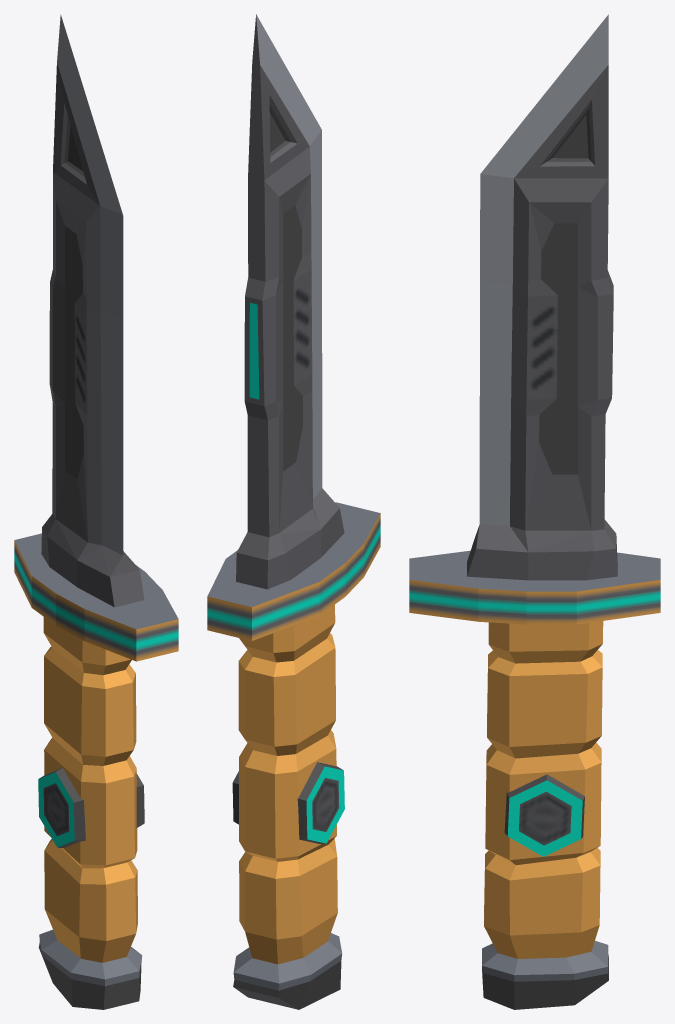
Rendered from mech_SM_Chr_Attach_Knife_01.gltf.
3 renders of one model, left to right at view 1: azimuth 30°, elevation 25°; view 2: azimuth 150°, elevation 25°; view 3: azimuth 270°, elevation 25°, orthographic. The views are drawn at different scales.
Visible parts, largest first — view 1: SM_Chr_Attach_Knife_01; view 2: SM_Chr_Attach_Knife_01; view 3: SM_Chr_Attach_Knife_01.
Part boxes in pixels (x1,y1,x2,y2): SM_Chr_Attach_Knife_01: (14,14,178,1009); SM_Chr_Attach_Knife_01: (207,14,380,1009); SM_Chr_Attach_Knife_01: (409,14,660,1009).
Bounding box in the file's own units: 0.0341 × 0.3478 × 0.0809.
Materials: 1 (1 with a texture image).
